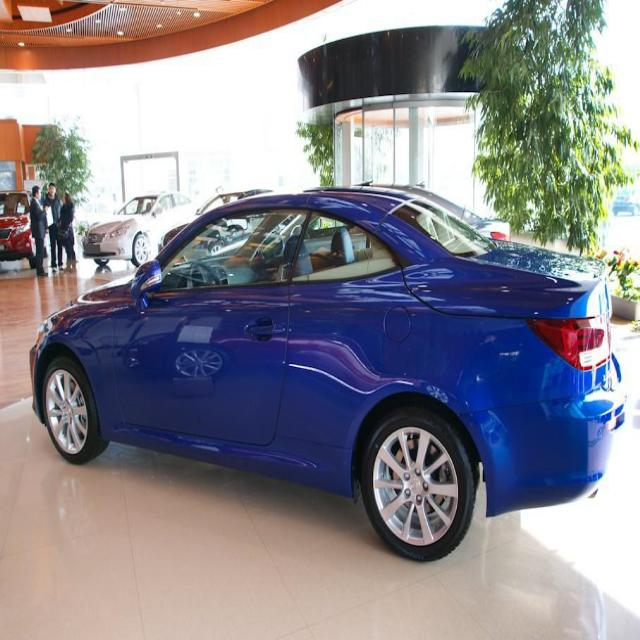back_glass: (387, 186, 495, 261)
back_left_side_light: (519, 309, 612, 369)
front_left_side_door: (110, 195, 318, 449)
front_left_side_light: (35, 314, 55, 352)
front_left_side_mirror: (128, 258, 166, 304)
rear_bumper: (471, 390, 625, 520)
wheel: (364, 410, 474, 560), (42, 359, 104, 466)
